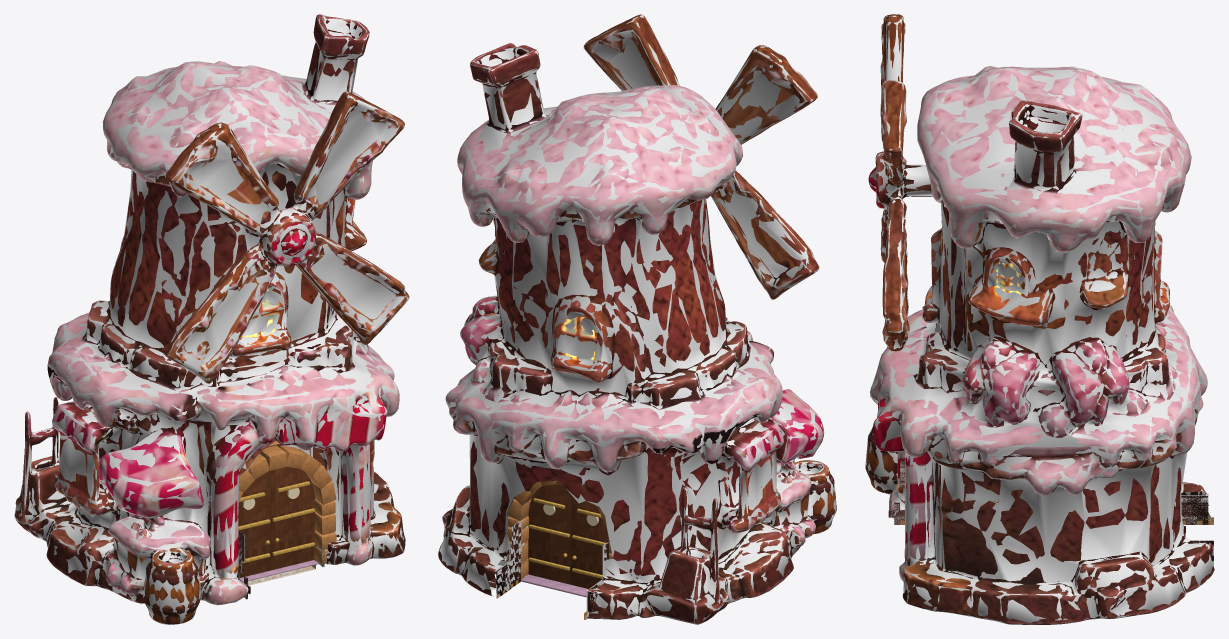
Rendered from GIN_HD_GingerbreadWindmill.fbx.
The picture shows the model from 3 angles, left to right: view 1: azimuth 30°, elevation 25°; view 2: azimuth 150°, elevation 25°; view 3: azimuth 270°, elevation 25°; orthographic projection. The views are drawn at different scales.
Visible parts, largest first — view 1: GIN_HD_GingerbreadWindmill, COL_GIN_HD_GingerbreadWindmill_Shell, GIN_HD_GingerbreadWindmill_Door_FR, GIN_HD_GingerbreadWindmill_Frame, GIN_HD_GingerbreadWindmill_Door_FL; view 2: GIN_HD_GingerbreadWindmill, COL_GIN_HD_GingerbreadWindmill_Shell, GIN_HD_GingerbreadWindmill_Door_BL, GIN_HD_GingerbreadWindmill_Door_BR, GIN_HD_GingerbreadWindmill_Frame; view 3: GIN_HD_GingerbreadWindmill, COL_GIN_HD_GingerbreadWindmill_Shell.
Part boxes in pixels (x1,y1,x2,y2): GIN_HD_GingerbreadWindmill: [15, 14, 409, 624]; COL_GIN_HD_GingerbreadWindmill_Shell: [14, 14, 408, 624]; GIN_HD_GingerbreadWindmill_Door_FR: [265, 467, 314, 570]; GIN_HD_GingerbreadWindmill_Frame: [238, 445, 336, 581]; GIN_HD_GingerbreadWindmill_Door_FL: [238, 471, 279, 577]; GIN_HD_GingerbreadWindmill: [438, 14, 836, 624]; COL_GIN_HD_GingerbreadWindmill_Shell: [439, 14, 836, 624]; GIN_HD_GingerbreadWindmill_Door_BL: [528, 484, 576, 584]; GIN_HD_GingerbreadWindmill_Door_BR: [563, 495, 608, 588]; GIN_HD_GingerbreadWindmill_Frame: [507, 480, 612, 597]; GIN_HD_GingerbreadWindmill: [865, 14, 1214, 624]; COL_GIN_HD_GingerbreadWindmill_Shell: [865, 14, 1213, 624].
Bounding box in the file's own units: 23.59 × 34.73 × 21.82.
